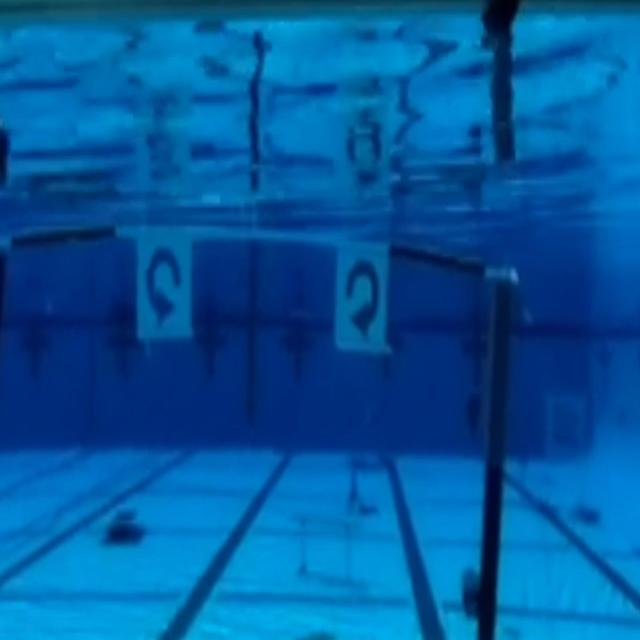Gate: (1, 210, 520, 640)
